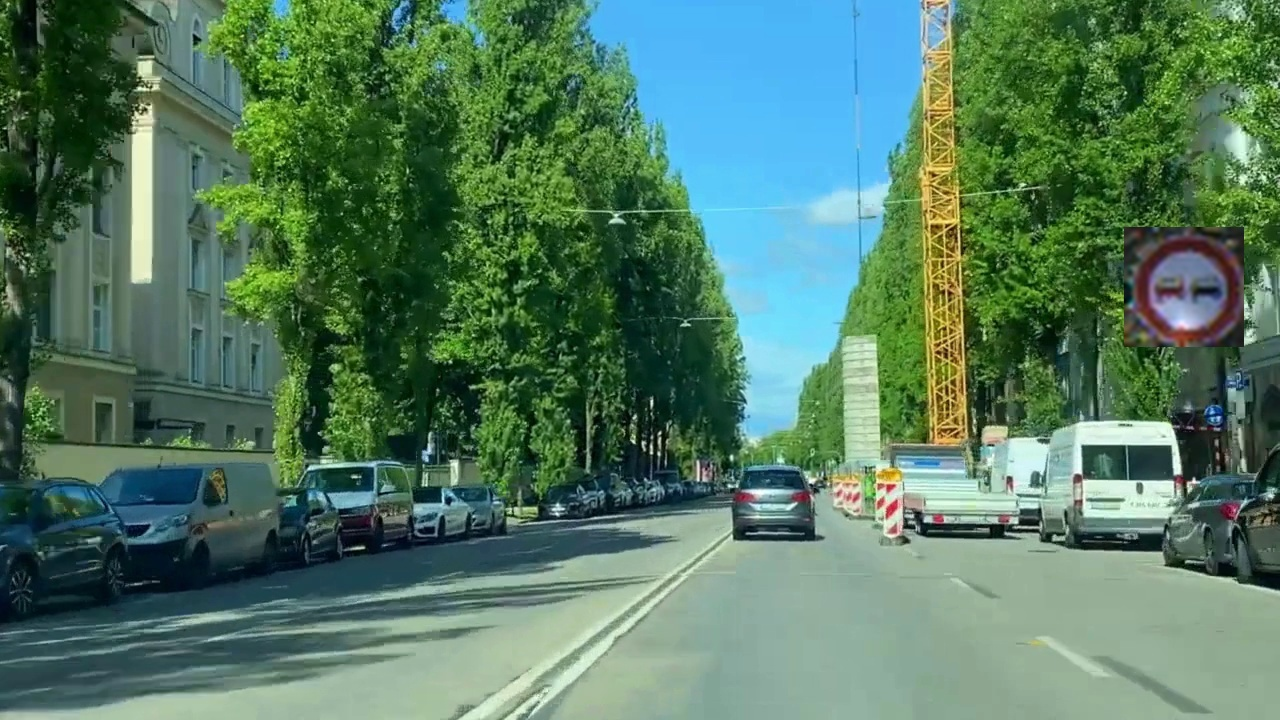No passing: (1124, 227, 1244, 347)
